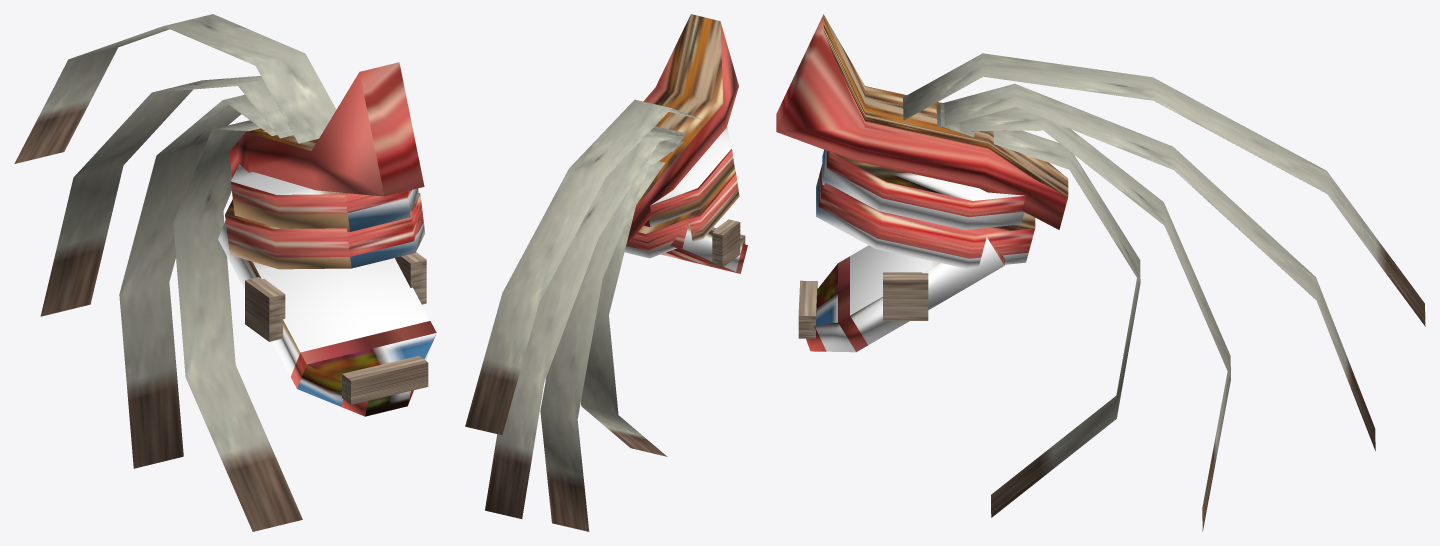
The picture shows the model from 3 angles, left to right: view 1: azimuth 30°, elevation 25°; view 2: azimuth 150°, elevation 25°; view 3: azimuth 270°, elevation 25°; orthographic projection. The views are drawn at different scales.
Parts seen in each view (by area): view 1: helmet_n_1_6; view 2: helmet_n_1_6; view 3: helmet_n_1_6.
Boxes of the visible parts, x1,y1,x2,y2 form: helmet_n_1_6: (14, 14, 436, 531); helmet_n_1_6: (465, 14, 747, 531); helmet_n_1_6: (776, 14, 1425, 531).
Size of the model in its own units: 0.4849 by 1.84 by 1.59.
